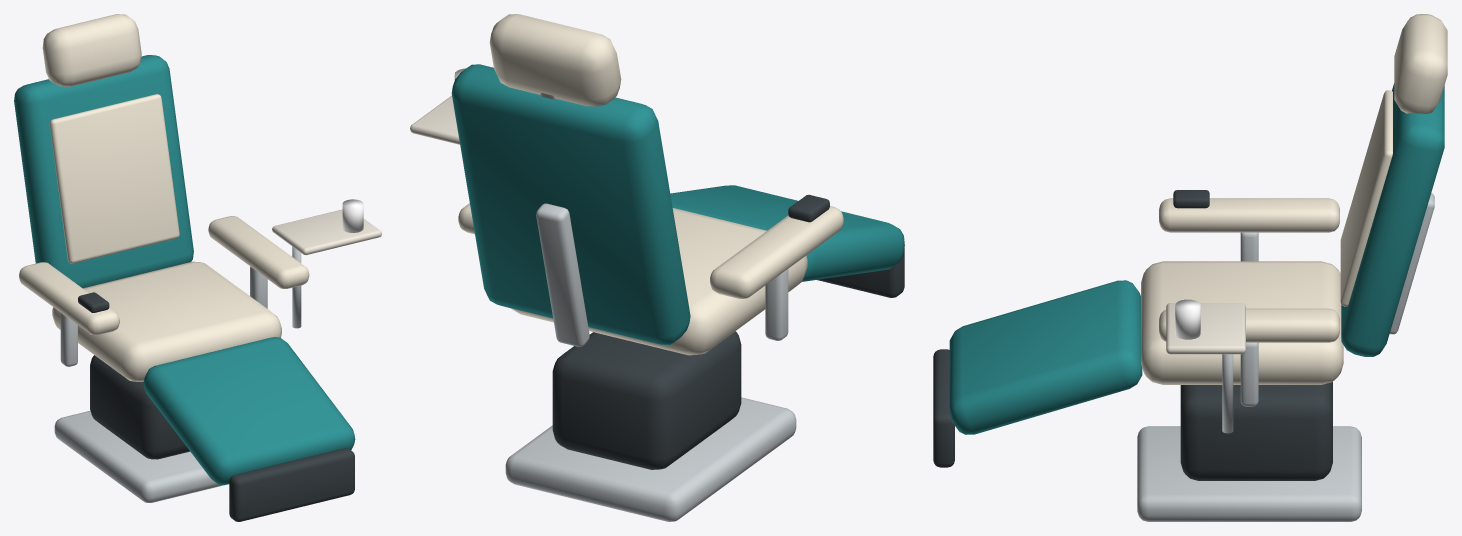
Rendered from TreatmentRecliner_advanced.glb.
3 views of the same model, side by side, from view 1: azimuth 30°, elevation 25°; view 2: azimuth 150°, elevation 25°; view 3: azimuth 270°, elevation 25° (orthographic). The views are drawn at different scales.
Visible parts, largest first — view 1: TreatmentRecliner_advanced; view 2: TreatmentRecliner_advanced; view 3: TreatmentRecliner_advanced.
Boxes of the visible parts, x1,y1,x2,y2 form: TreatmentRecliner_advanced: [14, 14, 381, 521]; TreatmentRecliner_advanced: [410, 14, 904, 521]; TreatmentRecliner_advanced: [933, 14, 1447, 521].
Size of the model in its own units: 1.12 by 1.38 by 1.42.
